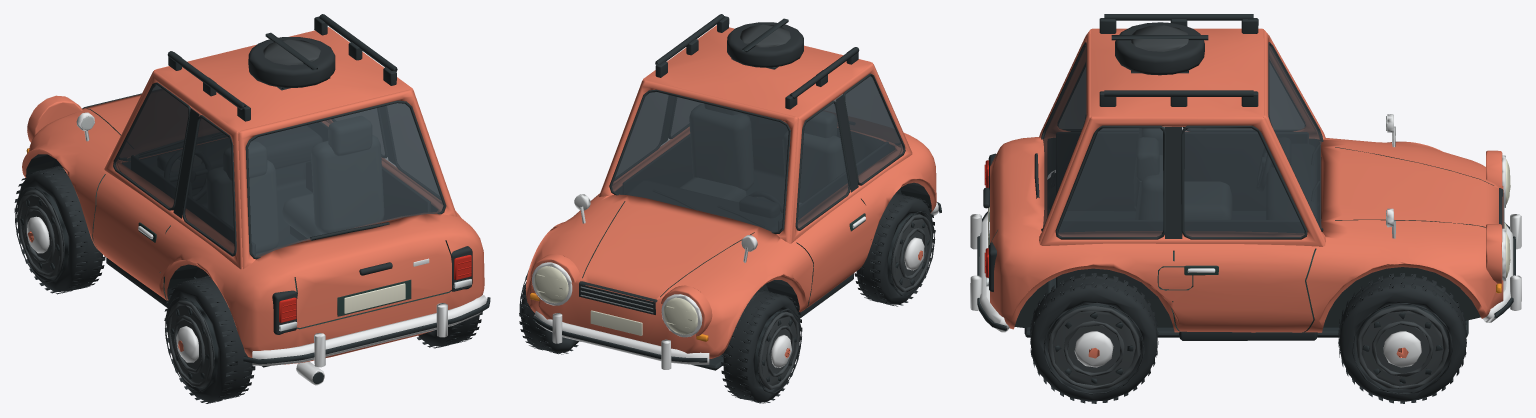
The model's file is puddle_lod2.fbx.
3 renders of one model, left to right at view 1: azimuth 30°, elevation 25°; view 2: azimuth 150°, elevation 25°; view 3: azimuth 270°, elevation 25°, orthographic. The views are drawn at different scales.
Visible parts, largest first — view 1: Body, Wheel_RL_Mesh, Wheel_FL_Mesh, Wheel_RR_Mesh; view 2: Body, Wheel_FL_Mesh, Wheel_RL_Mesh, Wheel_FR_Mesh; view 3: Body, Wheel_FR_Mesh, Wheel_RR_Mesh.
Boxes of the visible parts, box(x1,y1,x2,y2) form: Body: box(22, 14, 490, 385); Wheel_RL_Mesh: box(164, 275, 255, 403); Wheel_FL_Mesh: box(14, 165, 105, 294); Wheel_RR_Mesh: box(417, 311, 482, 348); Body: box(526, 14, 941, 370); Wheel_FL_Mesh: box(721, 289, 802, 403); Wheel_RL_Mesh: box(854, 193, 935, 306); Wheel_FR_Mesh: box(519, 270, 580, 354); Body: box(970, 14, 1521, 340); Wheel_FR_Mesh: box(1338, 273, 1466, 403); Wheel_RR_Mesh: box(1030, 273, 1158, 403).
Bounding box in the file's own units: 197 × 193 × 318.
